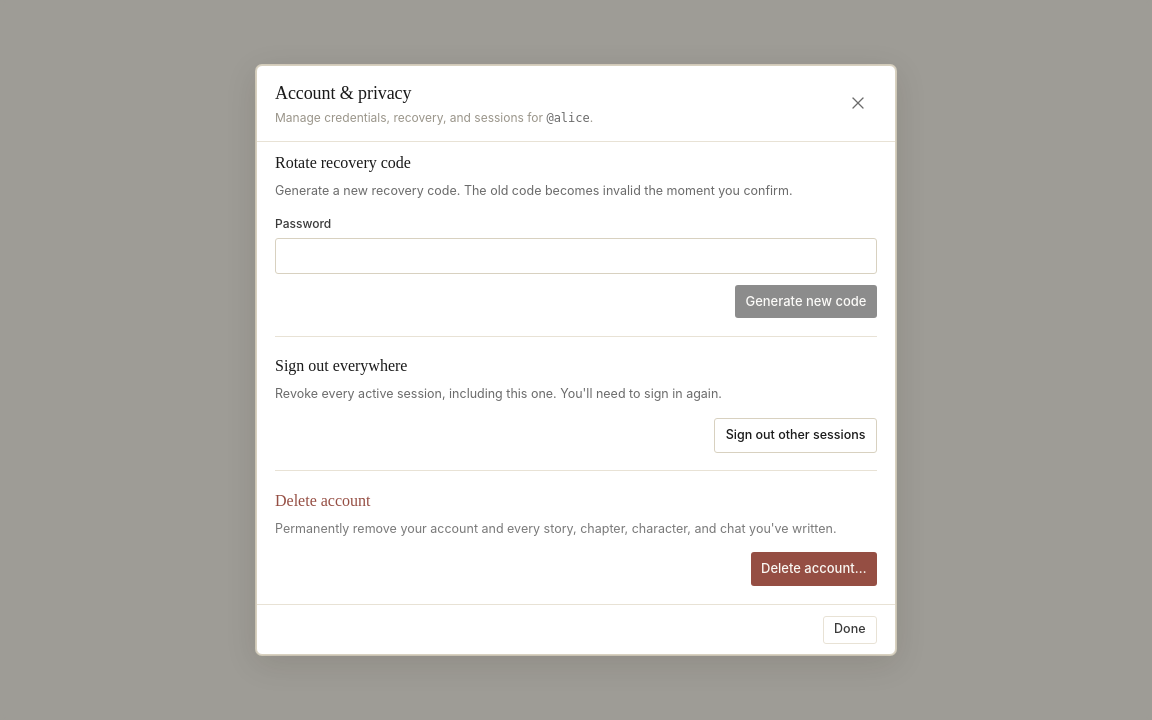
Test: <AccountPrivacyModal> › [X3] delete-account takeover › Cancel returns to normal shell with sections visible again
(page scrolled)
What coordinates should you click on to do the following:
click the button "Delete account…"
I would click on:
 (814, 569)
Its box is left=750, top=552, right=877, bottom=586.
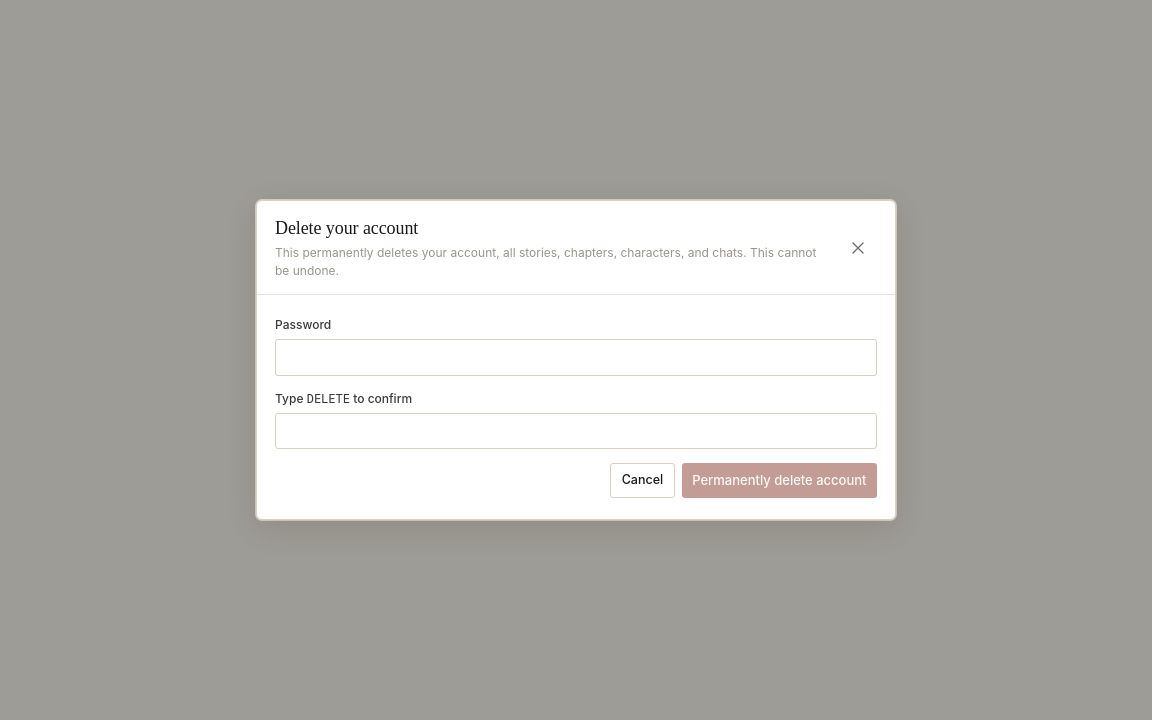
Check: the heading "Delete your account" is shown, box left=275, top=218, right=418, bottom=238
What coordinates should you click on to do the following:
click the button with test id "delete-account-cancel"
I would click on:
 (642, 480)
Its box is left=610, top=463, right=675, bottom=498.
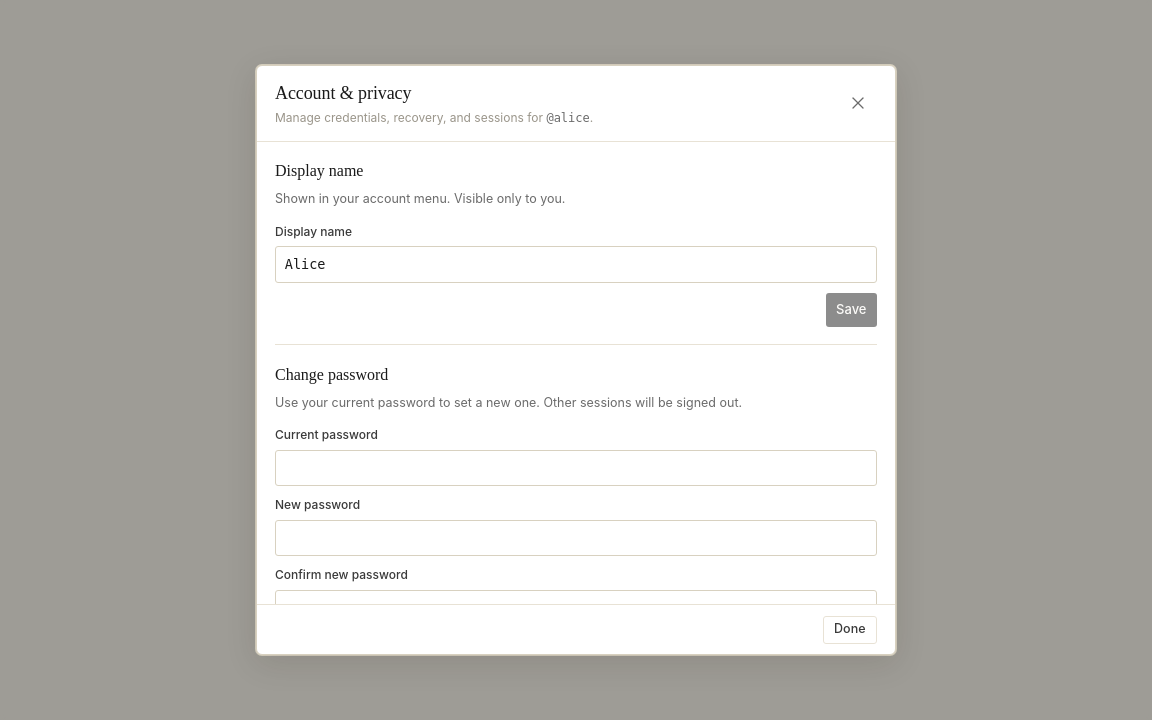
Check: the heading "Change password" is shown, box left=275, top=366, right=388, bottom=382
